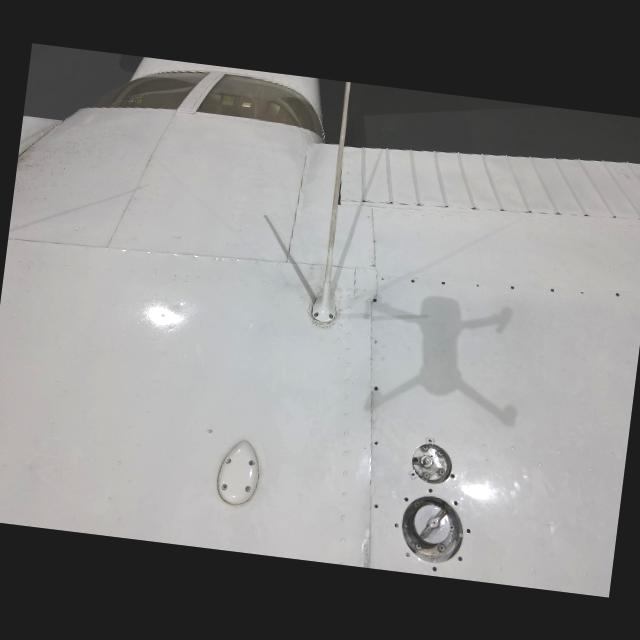Missing Fastener: (371, 434, 383, 446), (388, 518, 401, 529), (371, 382, 382, 395), (468, 281, 482, 290), (400, 549, 412, 559), (375, 274, 388, 282), (424, 485, 434, 494), (372, 500, 381, 510), (401, 494, 412, 502), (577, 288, 588, 296), (455, 552, 463, 562), (464, 527, 474, 535), (426, 434, 434, 444), (371, 336, 381, 344), (452, 498, 460, 507), (409, 470, 417, 478), (446, 473, 456, 479), (431, 564, 438, 572)
